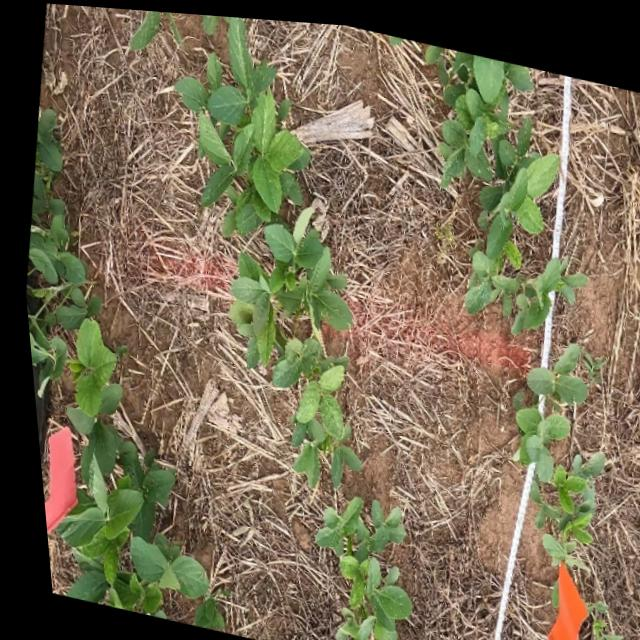soy_plant: (425, 38, 597, 640), (21, 109, 212, 627), (173, 12, 353, 482), (307, 494, 401, 640), (576, 592, 613, 640)
